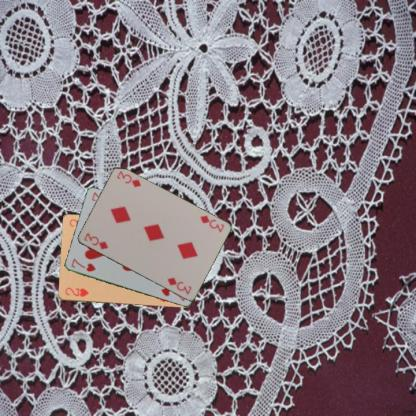2h: (62, 286, 90, 298)
3d: (81, 230, 109, 251), (197, 212, 225, 233)
7h: (69, 256, 96, 273)
